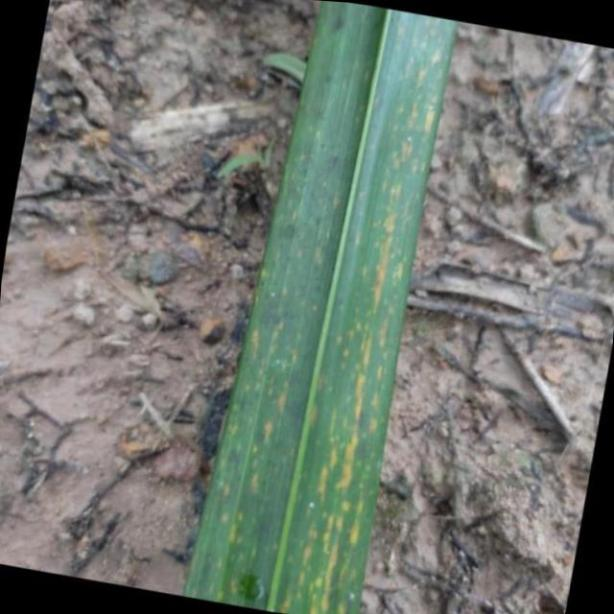Kalium: (184, 1, 459, 614)
